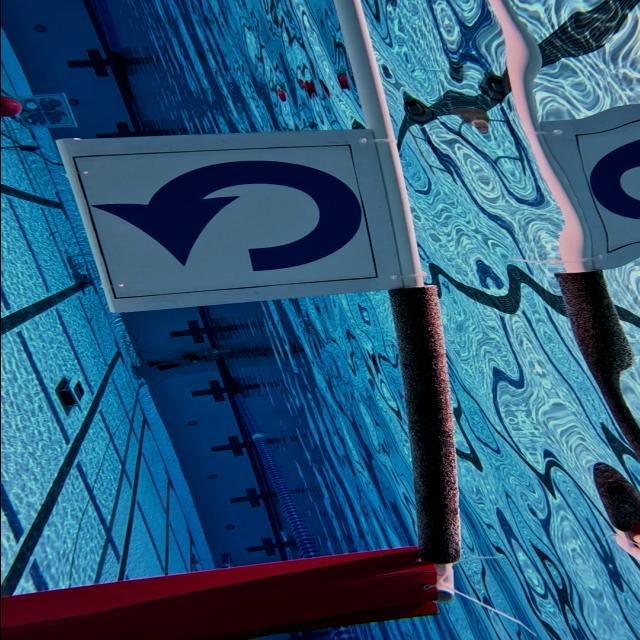blue_side: (40, 134, 398, 318)
